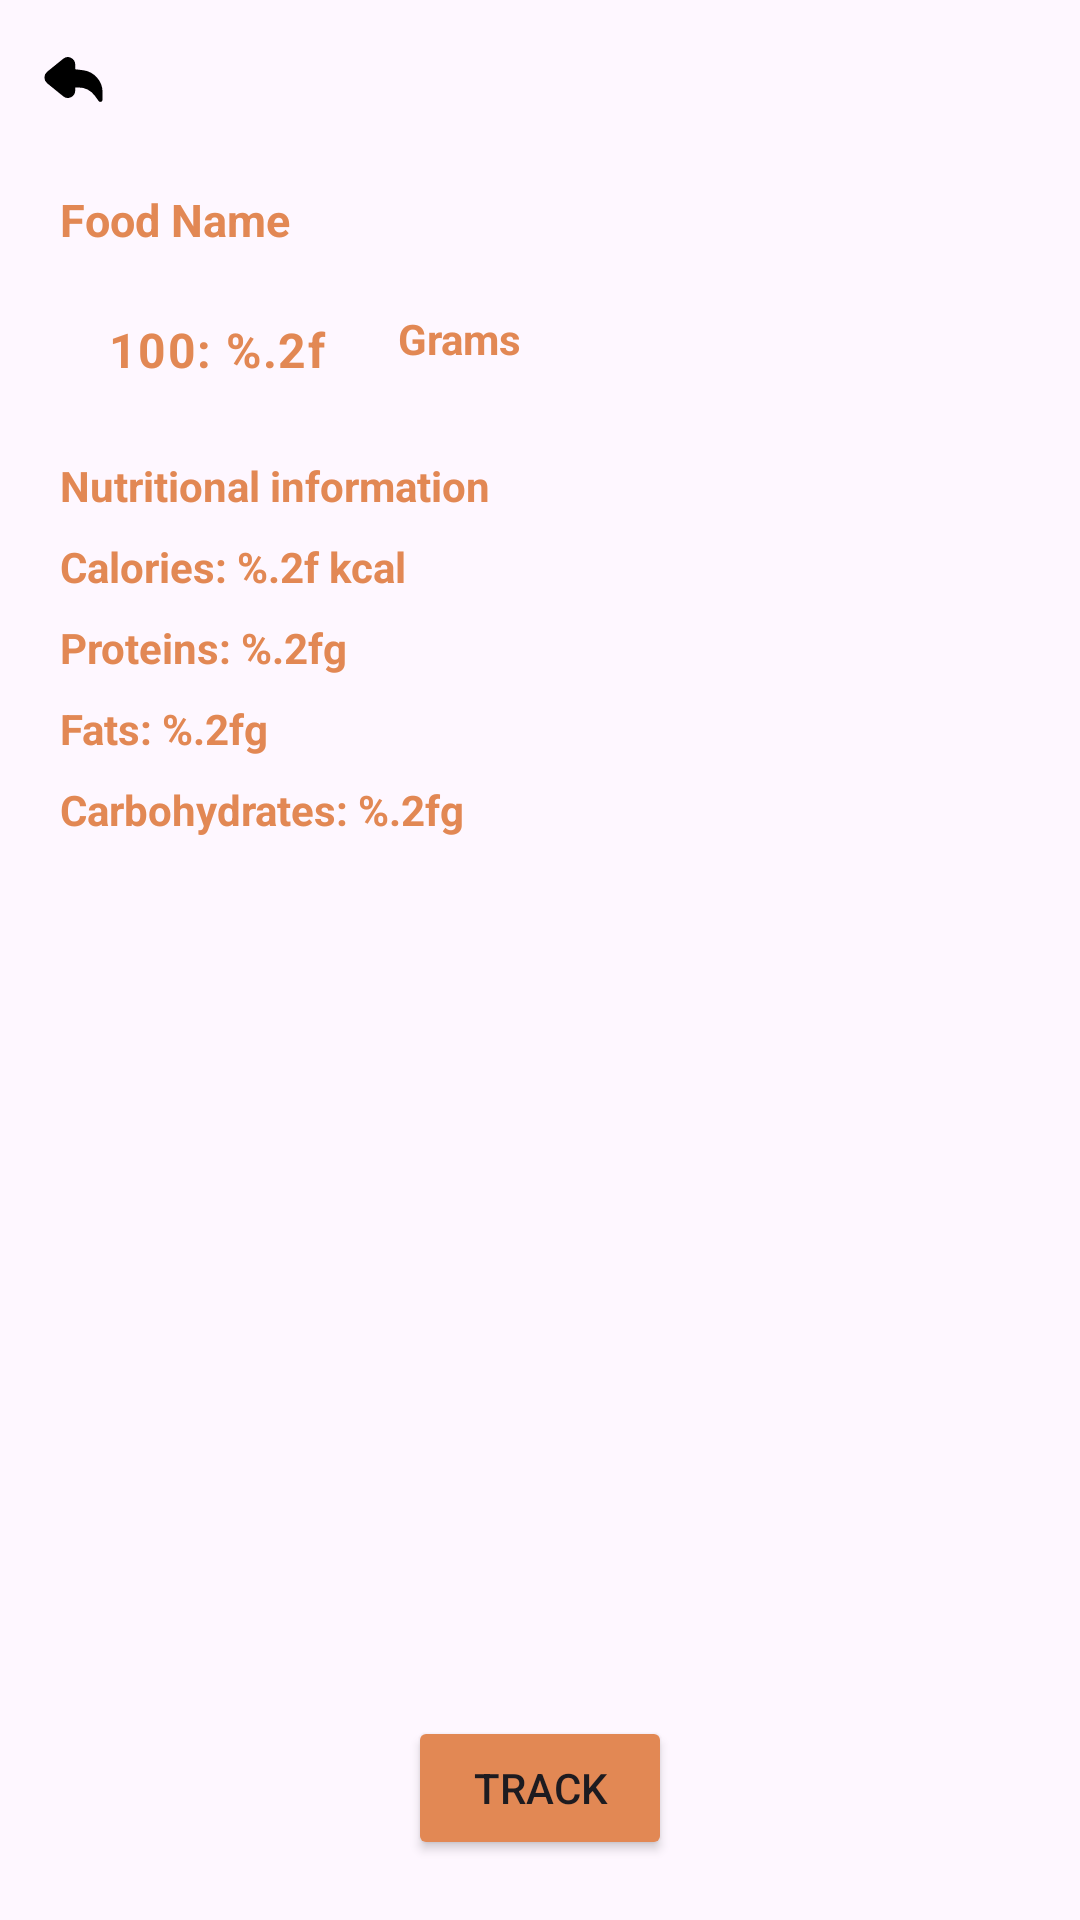

Where to tap for icons on this 1080x1920 app screen, as [x,y]:
gobackicon: [73,79]
